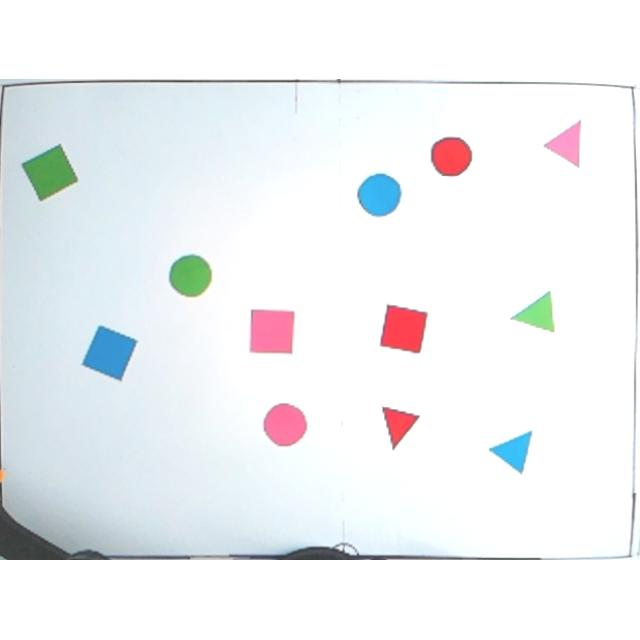blueCircle: (356, 175, 404, 219)
blueSquare: (81, 326, 141, 384)
blueTriangle: (485, 428, 537, 478)
greenCircle: (167, 256, 213, 300)
greenSquare: (21, 143, 79, 205)
greenTriangle: (509, 290, 556, 338)
pinkCircle: (262, 404, 308, 450)
pinkSquare: (248, 310, 296, 358)
pinkTriangle: (544, 119, 586, 173)
redCircle: (431, 137, 474, 181)
redSquare: (378, 302, 432, 356)
redTriangle: (380, 403, 422, 452)
